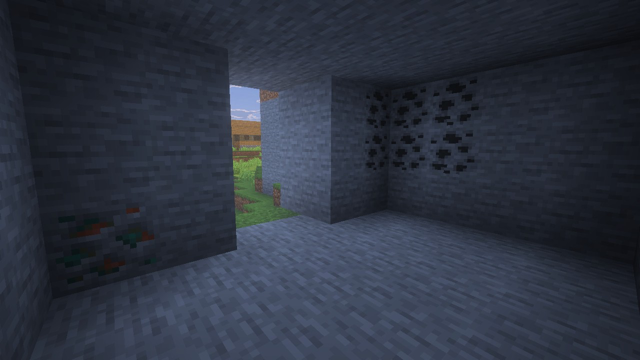coal: (359, 73, 479, 181)
copper: (40, 198, 160, 298)
